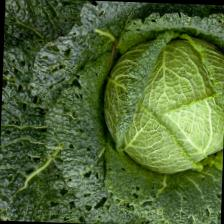cabbage: (98, 27, 224, 176)
